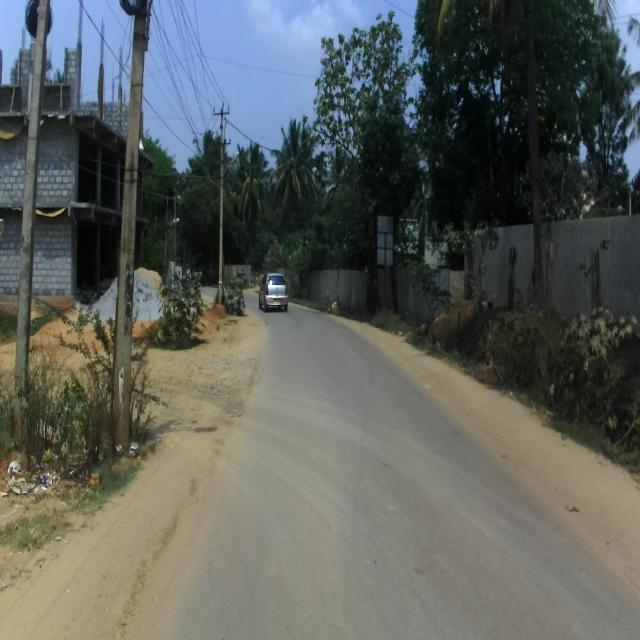car ahead at: (257, 265, 291, 319)
electric pole ahead at: (107, 0, 159, 466)
